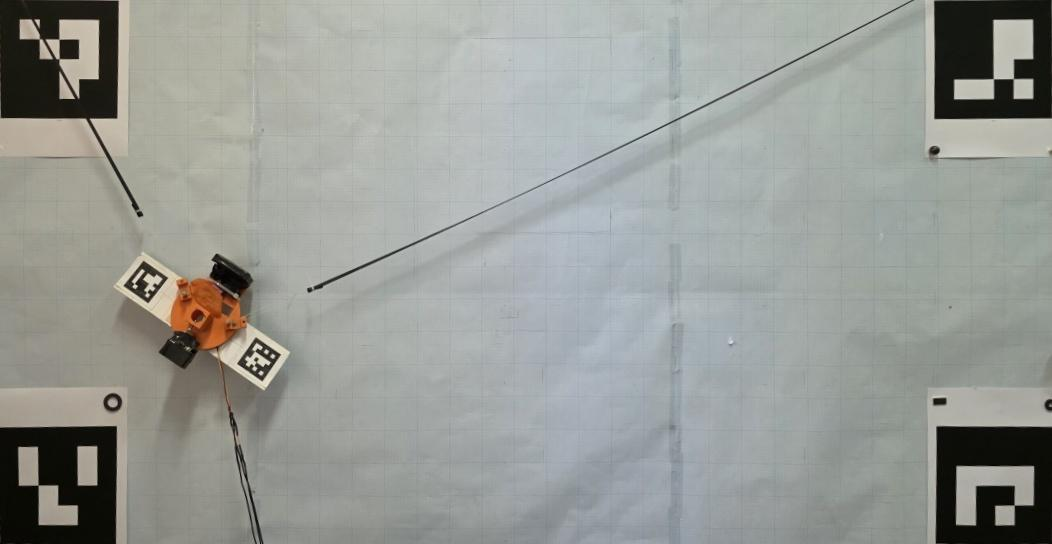robot: (159, 255, 253, 369)
